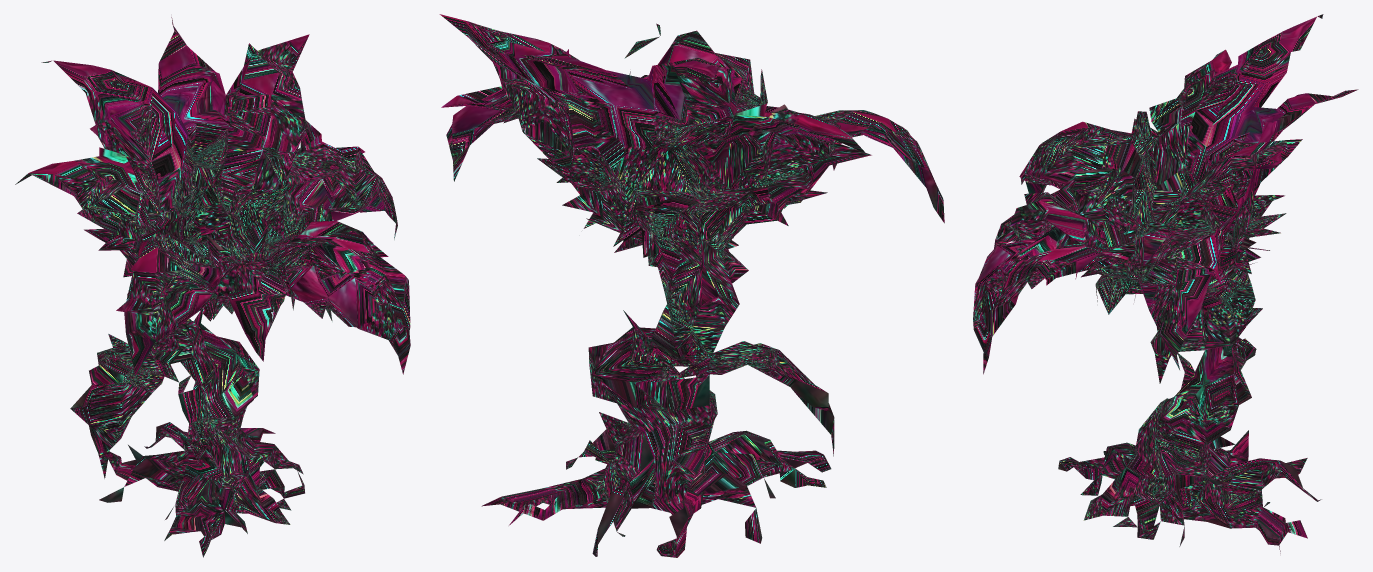
The model's file is shadow-flower.glb.
3 views of the same model, side by side, from view 1: azimuth 30°, elevation 25°; view 2: azimuth 150°, elevation 25°; view 3: azimuth 270°, elevation 25° (orthographic). The views are drawn at different scales.
Size of the model in its own units: 1.73 by 1.91 by 1.52.
1 material, 1 textured.
